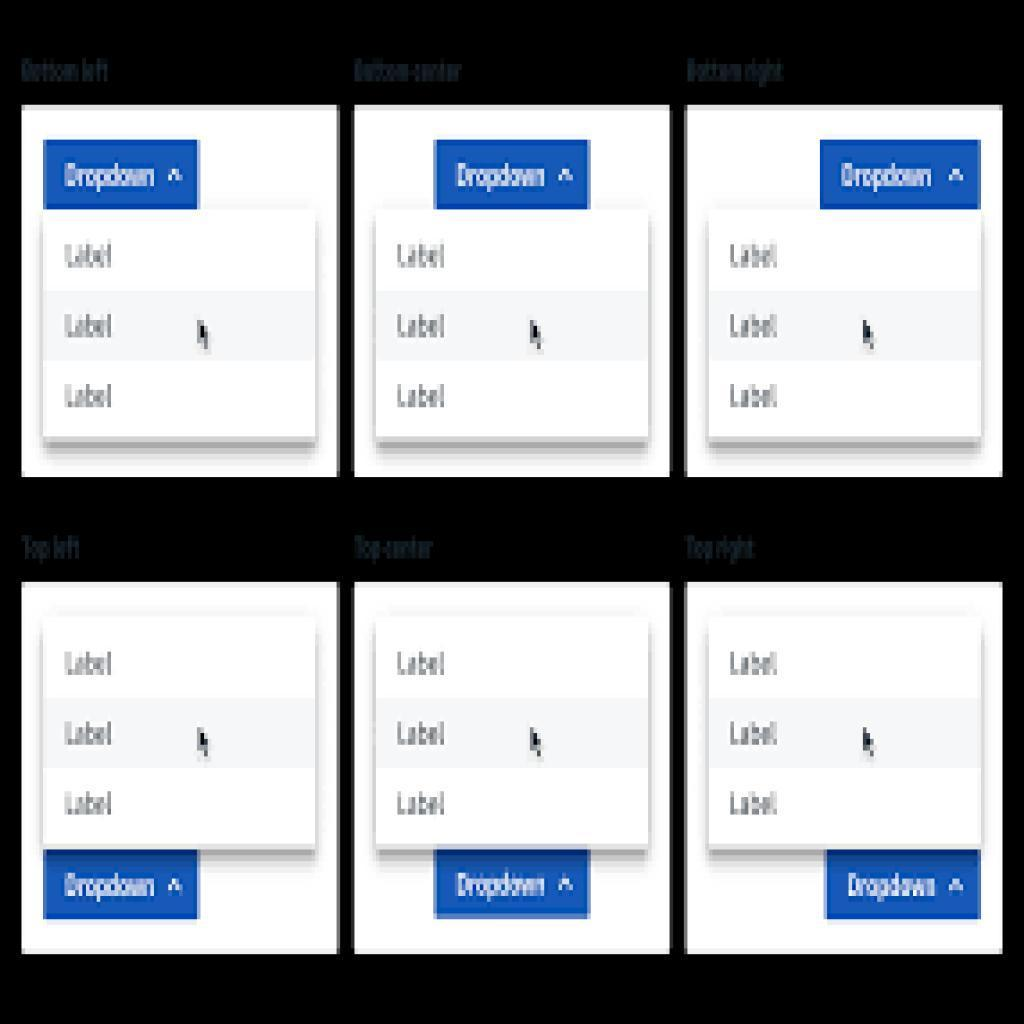dropdown: (820, 139, 981, 212), (43, 849, 201, 917), (436, 849, 591, 917), (43, 141, 200, 208), (436, 142, 588, 211), (827, 851, 980, 918)
